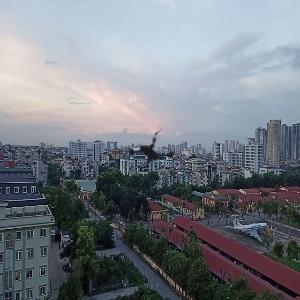drone: (102, 103, 197, 198)
